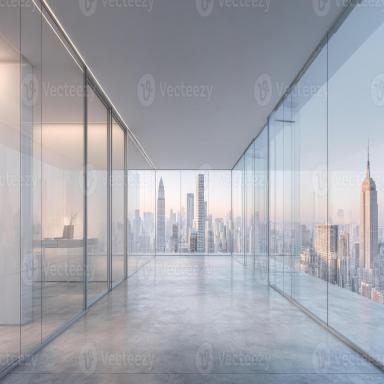glass_panel: (330, 3, 383, 342), (43, 23, 83, 328), (297, 52, 327, 314), (0, 2, 18, 320), (21, 2, 39, 319), (87, 87, 108, 281), (160, 172, 207, 253), (248, 123, 267, 265), (363, 147, 380, 298), (278, 120, 294, 280), (270, 117, 284, 284), (130, 172, 155, 254), (113, 120, 125, 284), (210, 171, 231, 253), (192, 173, 208, 252), (234, 155, 246, 258), (233, 158, 244, 255), (156, 175, 166, 252)
